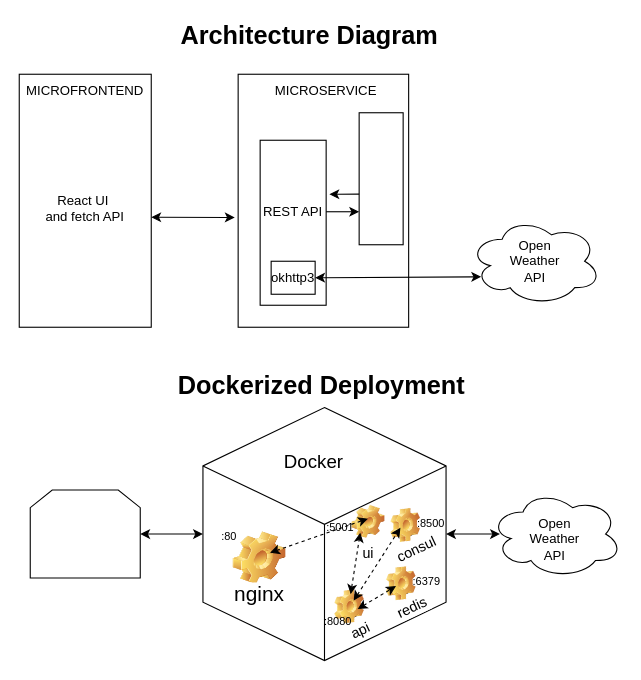
Image size: 641x680. Some labels were removed from this diagram. The centre of each missing label's shape, as x and y in pixels:
Browser (Client): [84,533]
REDIS CACHE: [380,178]
